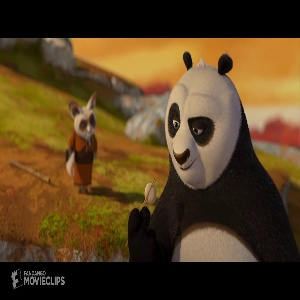po: (126, 48, 299, 261)
shifu: (62, 89, 100, 195)
